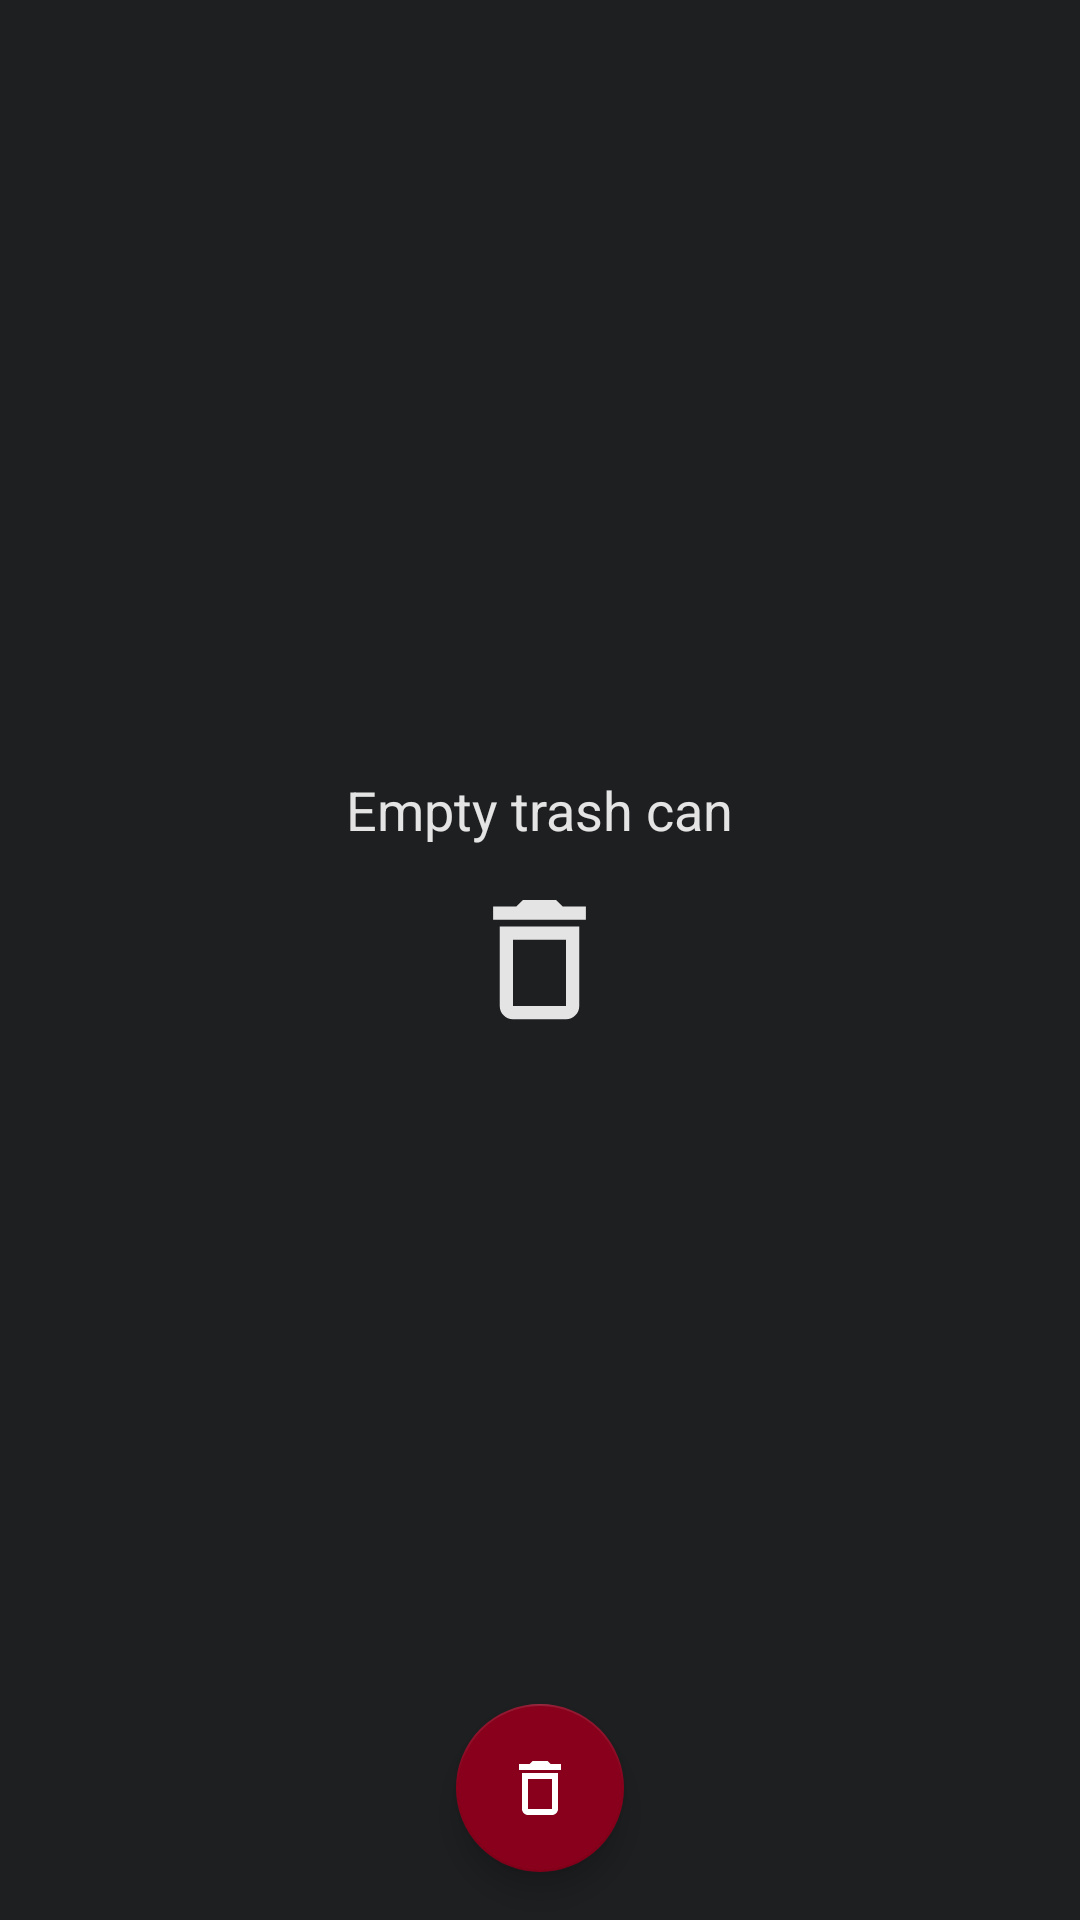

Icons on this 1080 x 1920 Android screen, each with the point to tap as point (x, y):
delete: point (540, 1788)
delete branco gelo: point (539, 960)
